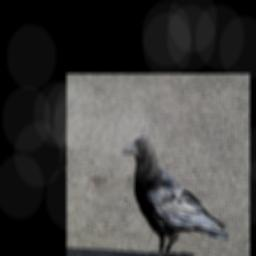Crow: (121, 134, 230, 256)
